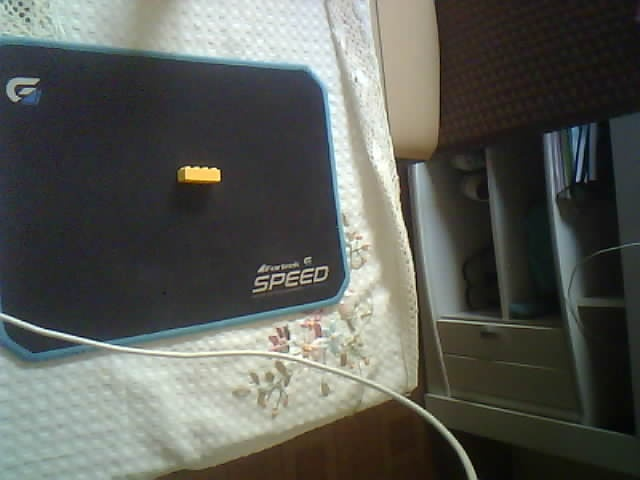lego: (177, 164, 221, 185)
